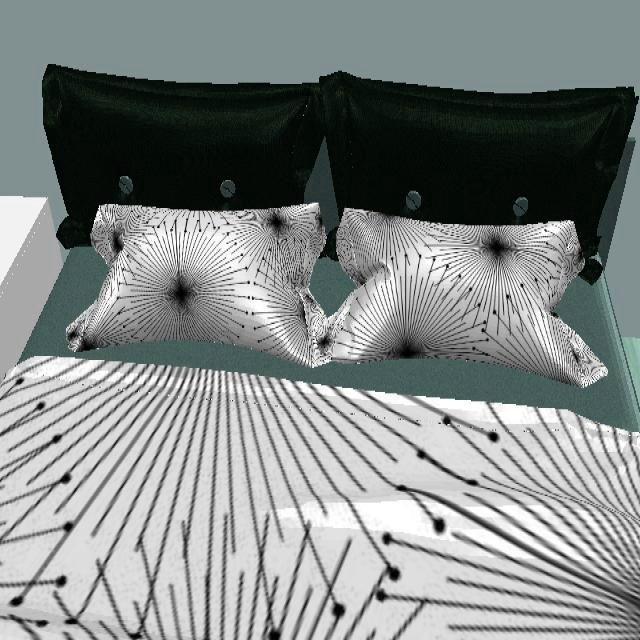bed: (0, 65, 640, 640)
pillow: (65, 203, 613, 392)
